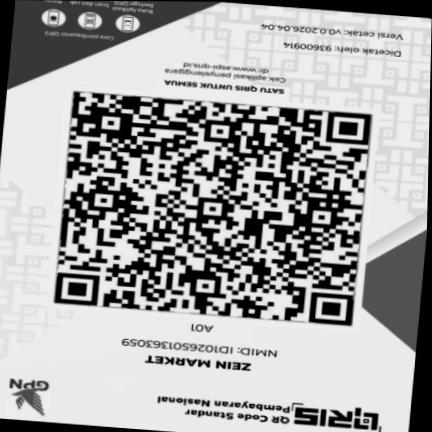Cara Pakai QRIS: (31, 0, 160, 46)
Cek Aplikasi Penyelenggara: (158, 56, 293, 84)
Dicetak Oleh: (277, 36, 409, 65)
Logo GPN: (0, 373, 62, 420)
Logo dan deskripsi QRIS: (145, 389, 389, 432)
Nama Merchant: (136, 351, 261, 377)
National Merchant ID: (117, 334, 283, 361)
QR Code: (47, 84, 379, 333)
Slogan: (159, 76, 292, 97)
Terminal ID: (180, 321, 221, 336)
Versi Cetak: (254, 19, 410, 44)
